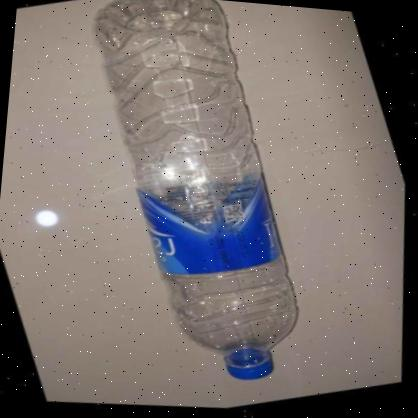bottle: (64, 0, 328, 384)
cap: (224, 350, 276, 382)
label: (132, 167, 288, 288)
